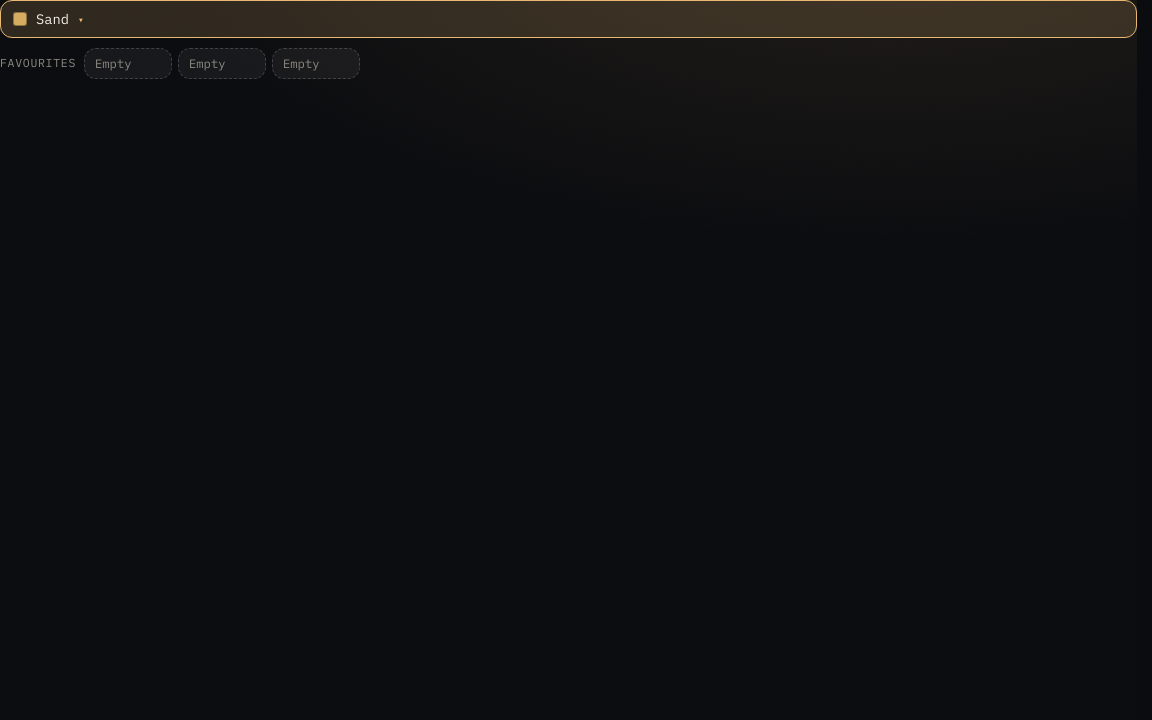
Palette on a phone › opens the picker when a slot is set, since there is no grid to point at
The width and height of the screenshot is (1152, 720).
Click the button with aria-label "Favourite 1" at (128, 64), box top-left (84, 48), bottom-right (172, 79)
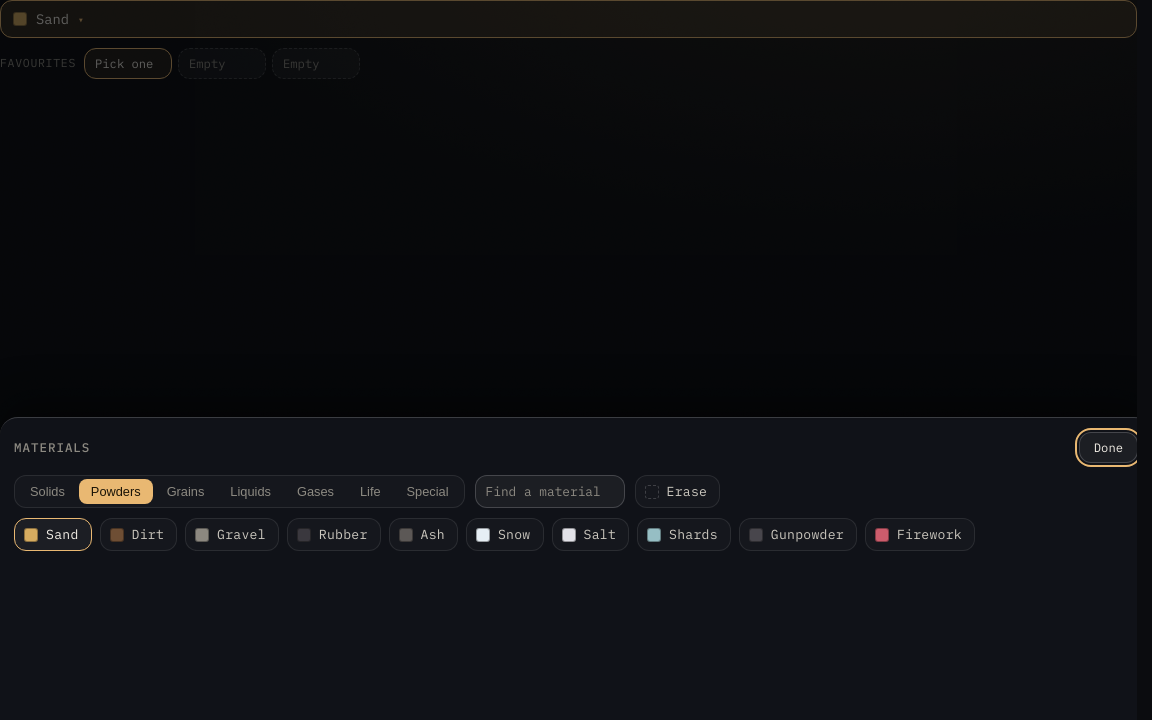
Now the dialog is shown, box top-left (0, 417), bottom-right (1151, 719)
